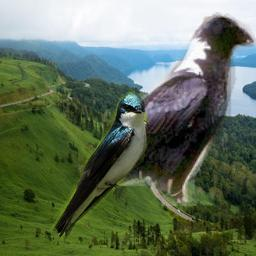Crow: (78, 8, 256, 206)
Swallow: (50, 91, 151, 244)
